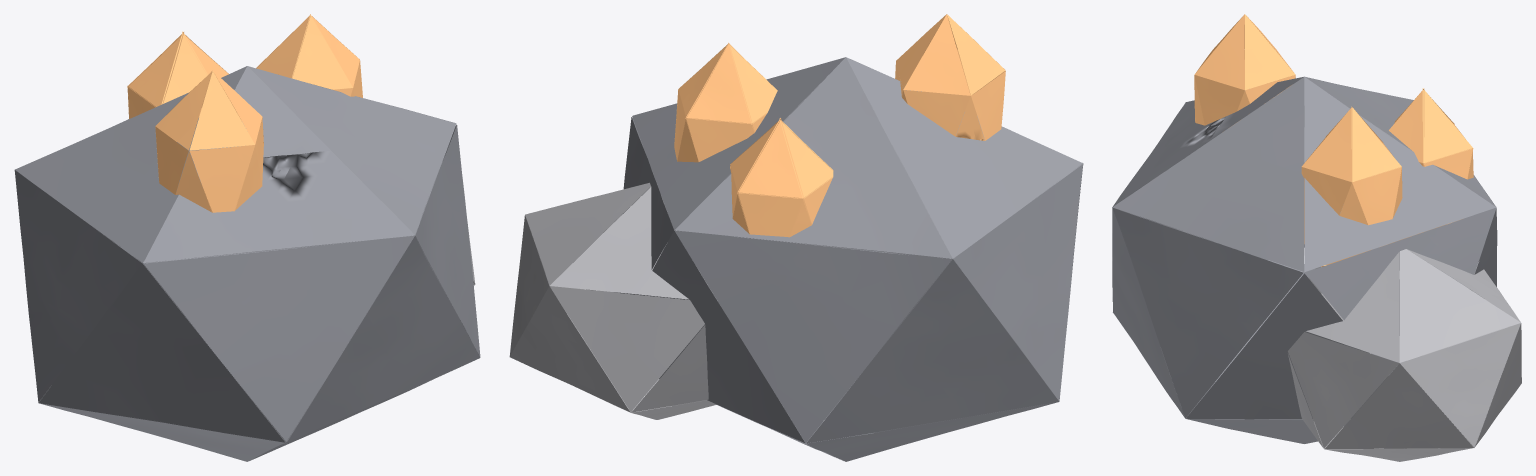
The model's file is iron_node.glb.
3 renders of one model, left to right at view 1: azimuth 30°, elevation 25°; view 2: azimuth 150°, elevation 25°; view 3: azimuth 270°, elevation 25°, orthographic. The views are drawn at different scales.
Parts seen in each view (by area): view 1: IronNodeRock; view 2: IronNodeRock; view 3: IronNodeRock.
Part boxes in pixels (x1,y1,x2,y2): IronNodeRock: (14, 14, 480, 461); IronNodeRock: (509, 14, 1083, 461); IronNodeRock: (1112, 14, 1521, 461).
Size of the model in its own units: 0.8487 by 0.741 by 0.6882.
